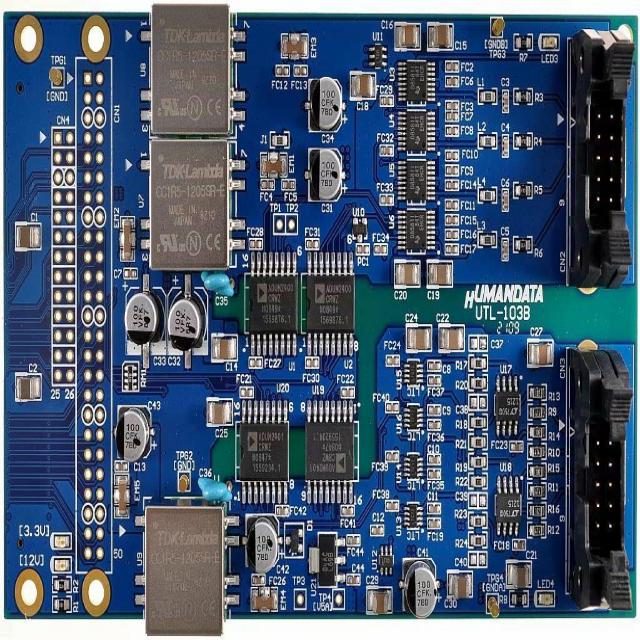Capacitor: (427, 255, 452, 288), (210, 332, 237, 362), (13, 222, 41, 250), (438, 325, 464, 354), (427, 22, 453, 49), (406, 323, 431, 351), (349, 73, 375, 99), (13, 372, 40, 397), (206, 398, 231, 425), (507, 561, 532, 588), (394, 260, 419, 286), (528, 340, 553, 366), (394, 24, 420, 49), (367, 586, 391, 613), (448, 572, 472, 598), (380, 191, 394, 208), (372, 243, 389, 256), (247, 236, 262, 250), (304, 354, 318, 369), (340, 503, 356, 516), (501, 88, 509, 114), (380, 144, 394, 158), (355, 242, 369, 256), (427, 372, 441, 386), (444, 163, 459, 176), (444, 198, 459, 211), (426, 452, 441, 465), (501, 133, 509, 157), (122, 266, 138, 278), (444, 243, 458, 256), (240, 383, 253, 397), (114, 458, 128, 471), (426, 502, 440, 515), (426, 517, 440, 530), (512, 537, 526, 550), (380, 94, 394, 107), (426, 360, 441, 372), (293, 64, 308, 76), (249, 356, 262, 369), (427, 403, 440, 416), (445, 111, 459, 123), (444, 227, 458, 239), (385, 357, 399, 369), (385, 400, 399, 412), (346, 571, 360, 583), (501, 237, 508, 260), (502, 186, 508, 212), (510, 438, 522, 451), (275, 503, 288, 515), (346, 533, 359, 545), (445, 59, 457, 72), (260, 179, 274, 190), (445, 215, 459, 226), (305, 238, 319, 249), (385, 450, 399, 461), (385, 500, 399, 511), (444, 150, 459, 160), (446, 124, 458, 136), (341, 385, 353, 397), (427, 419, 441, 429), (370, 525, 384, 535), (428, 469, 440, 480), (276, 64, 288, 75), (282, 178, 294, 188), (446, 100, 459, 109), (445, 77, 458, 86), (252, 574, 265, 582), (446, 180, 458, 188)
Connector: (74, 58, 110, 574), (567, 27, 634, 290), (569, 343, 631, 616), (51, 126, 75, 385)
Diode: (284, 523, 304, 559)
EM: (112, 475, 130, 518), (250, 585, 277, 612), (259, 150, 286, 176), (280, 32, 308, 57), (120, 215, 135, 260)
Electrolytic Capacitor: (125, 287, 166, 354), (167, 285, 207, 352), (240, 510, 278, 568), (402, 558, 437, 613), (308, 146, 343, 200), (117, 404, 149, 459), (308, 79, 341, 129), (202, 269, 235, 296), (200, 478, 232, 501)
IC: (135, 496, 237, 636), (140, 2, 244, 133), (140, 139, 244, 268), (248, 248, 298, 359), (238, 396, 288, 503), (304, 252, 354, 356), (305, 397, 353, 502), (308, 529, 344, 587), (395, 107, 435, 155), (492, 472, 522, 536), (396, 156, 435, 205), (396, 204, 434, 254), (491, 374, 521, 435), (396, 58, 435, 104), (402, 450, 423, 480), (402, 358, 422, 387), (401, 401, 422, 428), (376, 544, 393, 576), (402, 501, 422, 528), (368, 46, 386, 68), (351, 218, 368, 241)
Inductor: (477, 86, 497, 105), (477, 132, 497, 150), (477, 187, 497, 204), (477, 234, 497, 246)
Led: (539, 33, 559, 50), (51, 556, 71, 572), (51, 533, 70, 549), (536, 591, 554, 606)
Pads: (468, 336, 487, 351), (468, 394, 487, 409), (468, 492, 487, 507), (468, 552, 487, 566)
Resistor Jumper: (122, 360, 137, 390)
Resistor Network: (51, 594, 71, 613), (512, 86, 532, 105), (526, 520, 546, 538), (528, 384, 548, 401), (513, 33, 533, 50), (467, 511, 487, 528), (269, 131, 289, 147), (467, 354, 487, 370), (526, 501, 546, 517), (528, 481, 546, 498), (510, 589, 528, 606), (513, 182, 532, 198), (468, 473, 487, 489), (513, 132, 533, 147), (468, 414, 488, 429), (528, 403, 546, 419), (469, 432, 487, 448), (528, 462, 546, 478), (513, 236, 532, 251), (468, 454, 487, 469), (51, 577, 71, 591), (528, 443, 546, 458), (468, 532, 487, 546), (469, 376, 487, 390), (528, 424, 546, 438)
Test Point: (48, 66, 64, 88), (486, 593, 499, 617), (490, 16, 504, 38), (273, 212, 285, 233), (293, 588, 305, 609), (332, 588, 344, 609), (285, 214, 297, 234), (177, 472, 189, 491)
